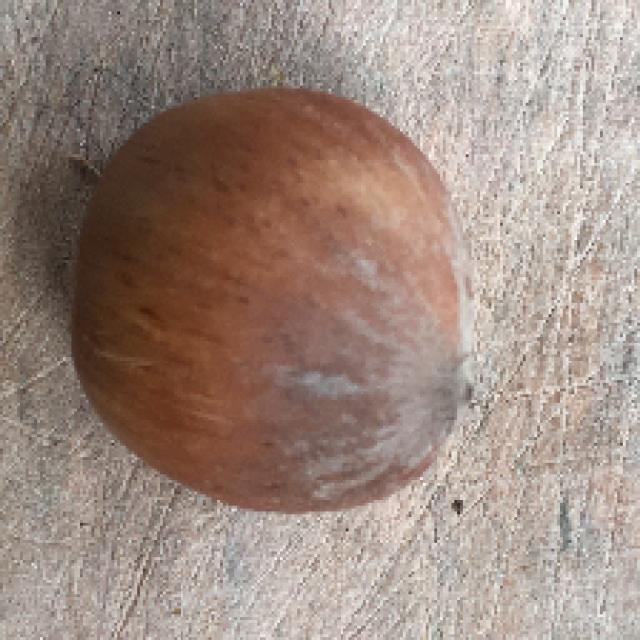qualityHazelnut: (63, 71, 484, 524)
